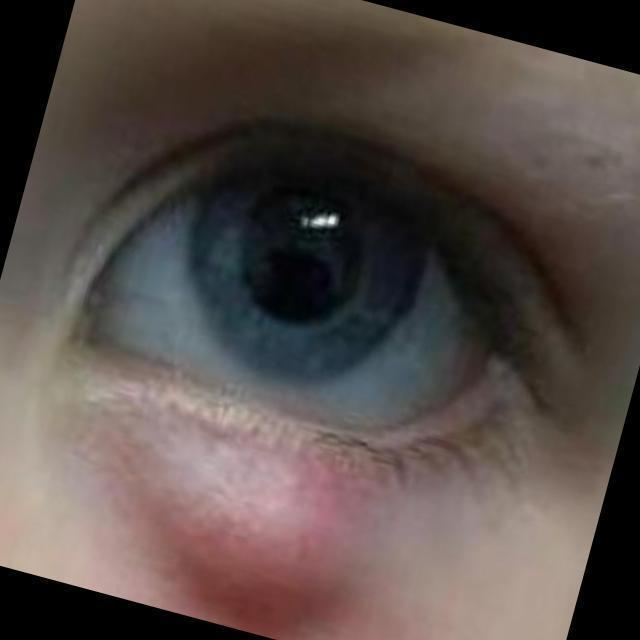Stye: (63, 290, 460, 640)
